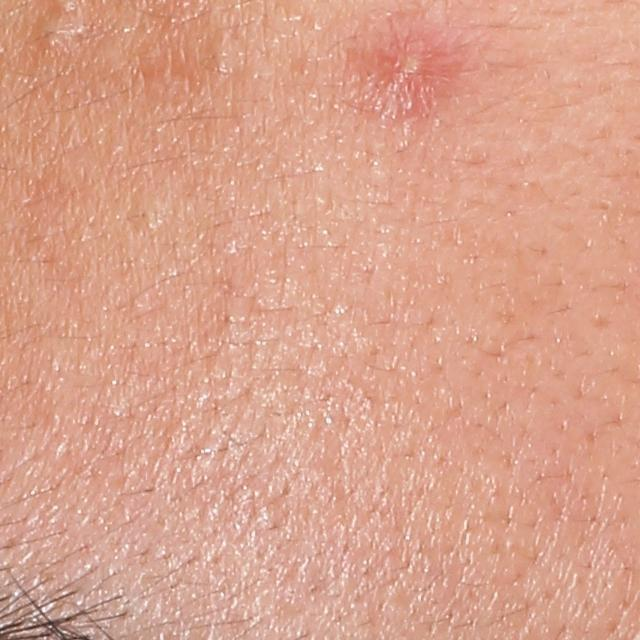comedo: (32, 10, 71, 51), (210, 28, 241, 77), (127, 199, 167, 233)
